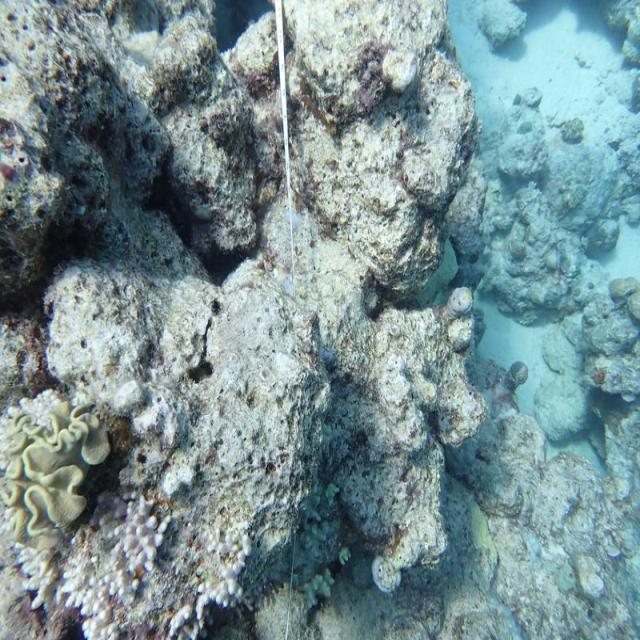Bleached Coral: (22, 494, 193, 640)
